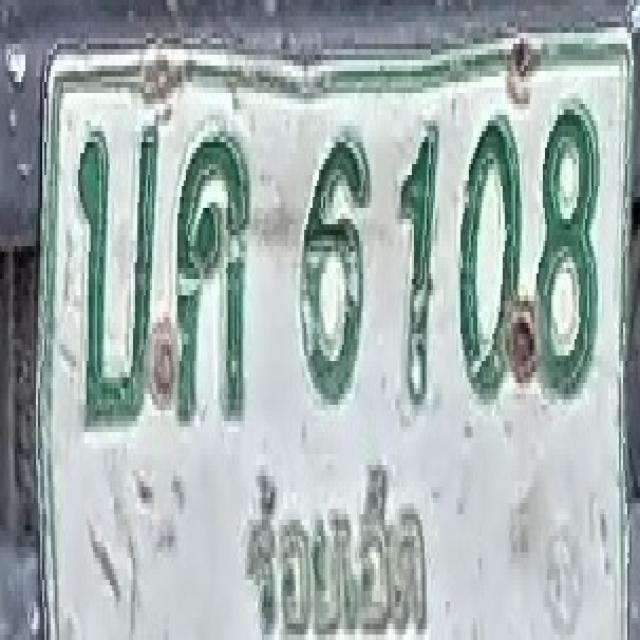0: (458, 115, 530, 399)
1: (397, 120, 439, 410)
6: (302, 134, 370, 402)
8: (529, 101, 599, 397)
A04: (172, 126, 250, 421)
A26: (75, 120, 159, 427)
RET: (234, 461, 433, 640)
